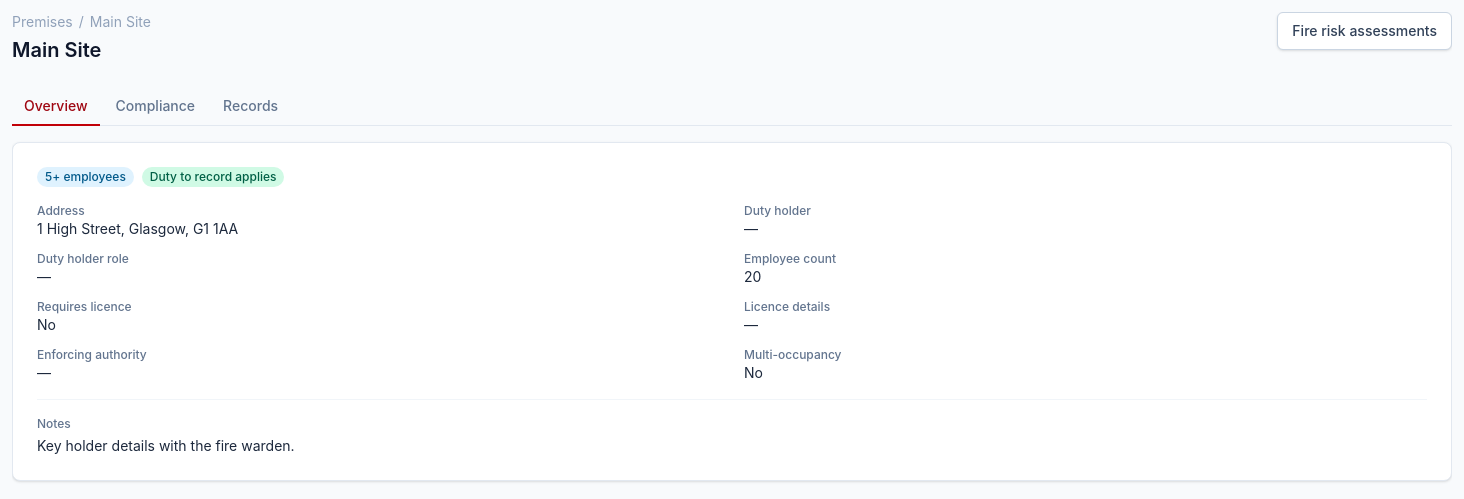
Test case: PremisesDetailPage › only loads the compliance position once that tab is opened
Check: the heading "Main Site" is shown, box [12,38,101,62]
Click the button "Compliance": click(155, 107) [104,88,207,126]
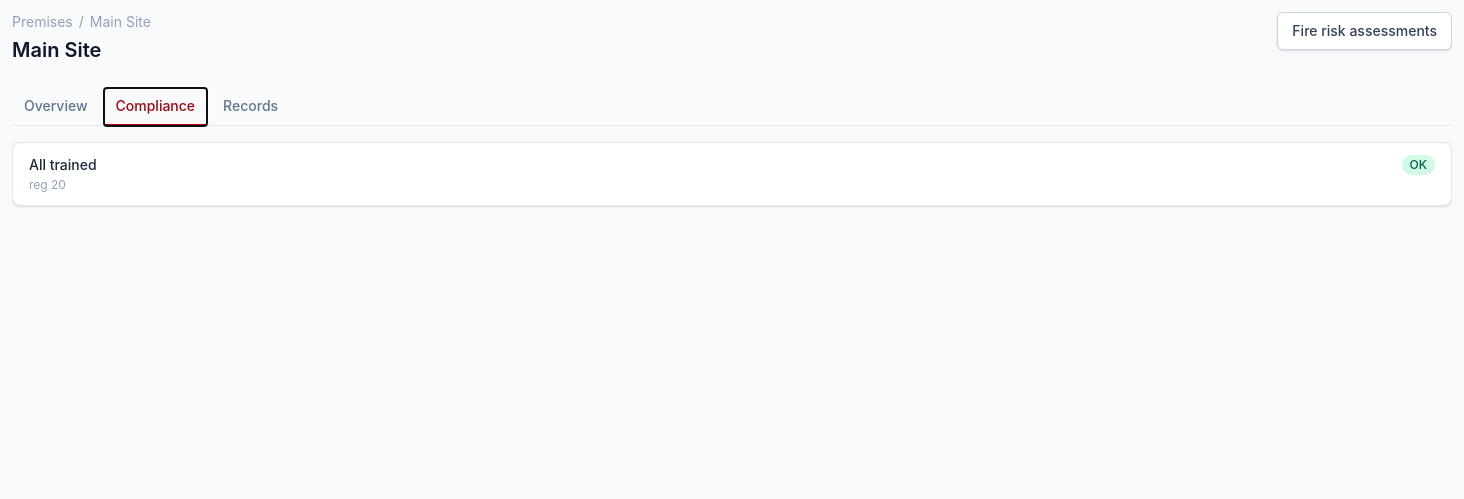
Check: the text "All trained" is shown, box [29,155,97,175]
